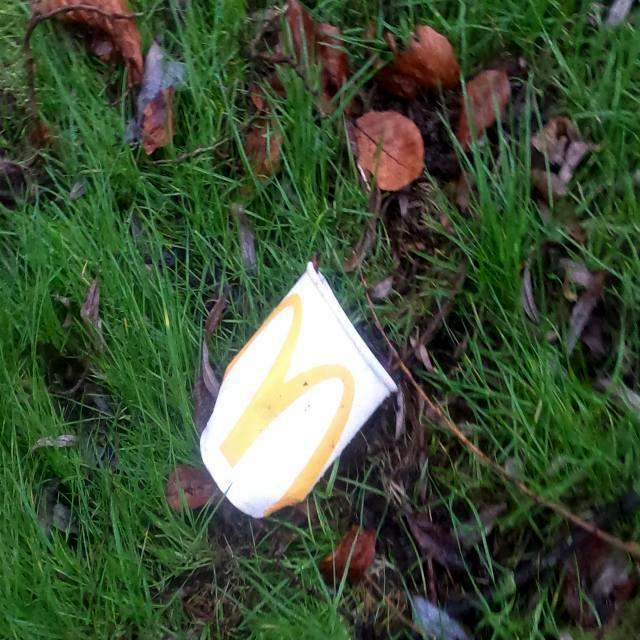Coffee Cup: (194, 255, 400, 523)
